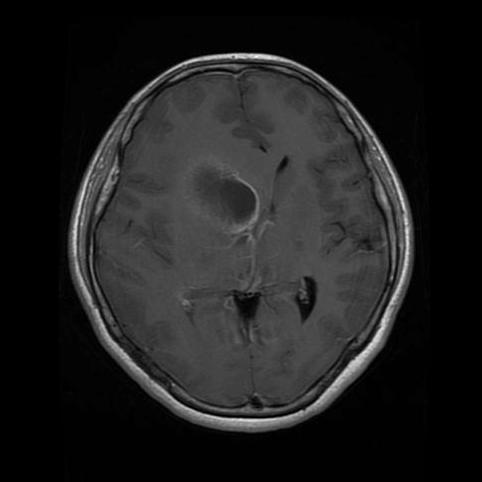Tumour-Glioma: (170, 162, 305, 250)
